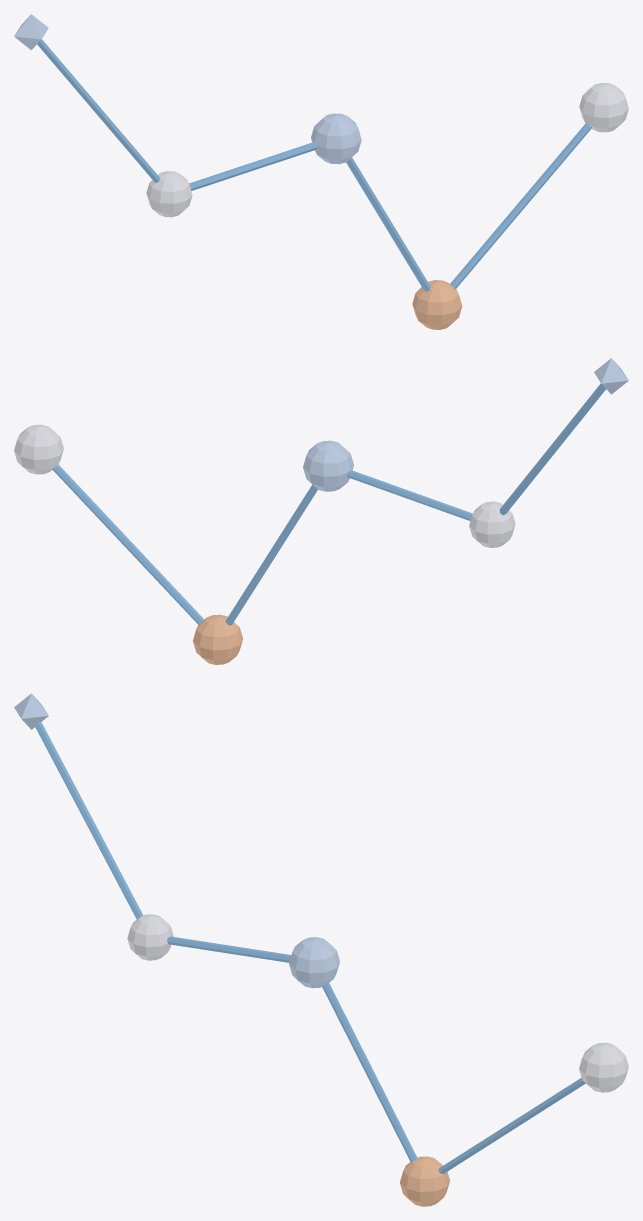
The model's file is constellation-cas.glb.
3 renders of one model, top to bottom at view 1: azimuth 30°, elevation 25°; view 2: azimuth 150°, elevation 25°; view 3: azimuth 330°, elevation 25°, orthographic.
Bounding box in the file's own units: 1.39 × 0.8859 × 0.1349.
